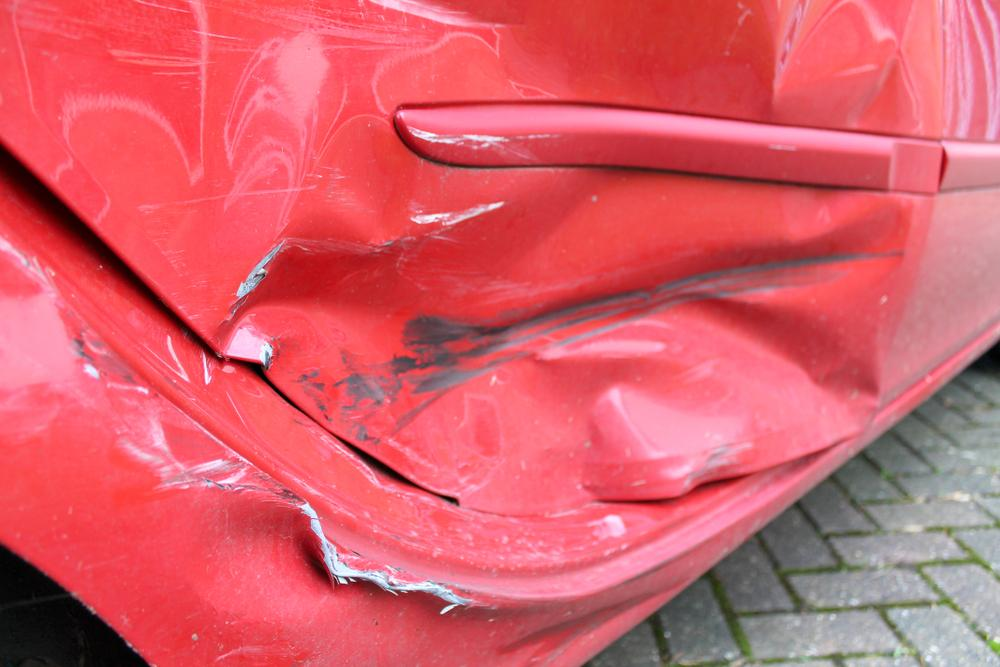dent: (213, 0, 922, 518), (191, 497, 540, 667)
